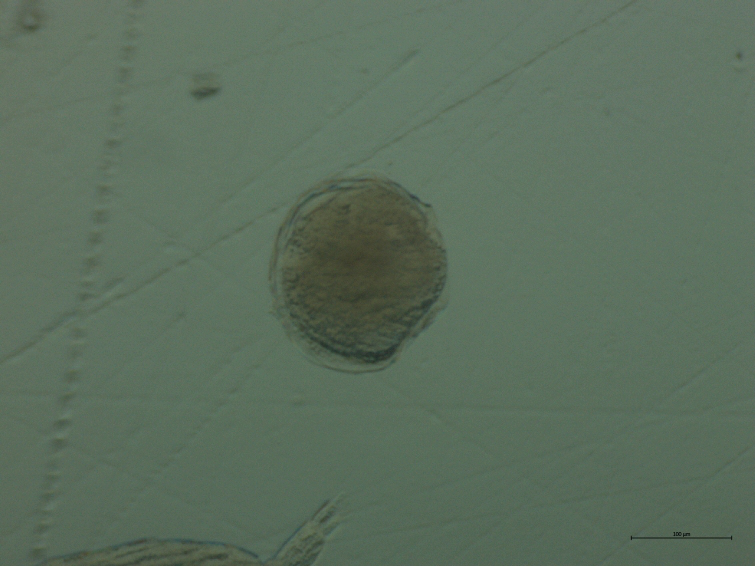oyster: (262, 169, 466, 382)
